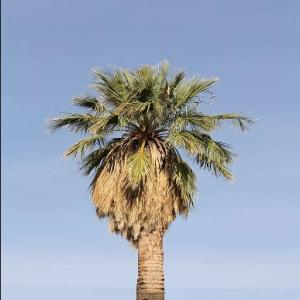palm tree: (43, 58, 258, 299)
